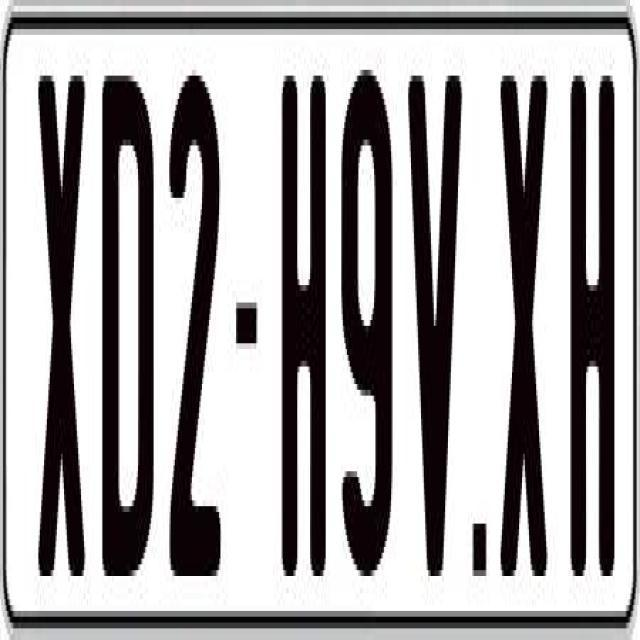2: (169, 70, 226, 594)
9: (341, 52, 401, 564)
D: (101, 58, 158, 559)
H: (569, 70, 613, 582), (282, 76, 326, 576)
V: (408, 58, 464, 559)
X: (496, 70, 546, 576), (37, 64, 84, 588)
